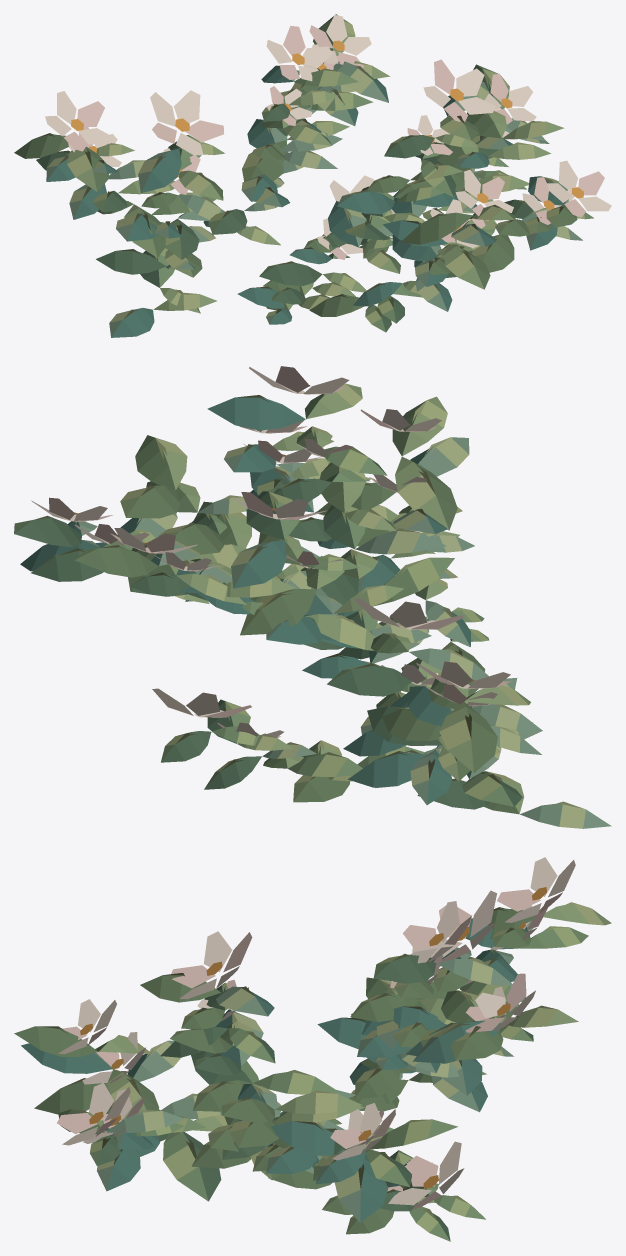
File: apple_blossom.glb
3 renders of one model, top to bottom at view 1: azimuth 30°, elevation 25°; view 2: azimuth 150°, elevation 25°; view 3: azimuth 270°, elevation 25°, orthographic. The views are drawn at different scales.
Parts seen in each view (by area): view 1: apple_blossom; view 2: apple_blossom; view 3: apple_blossom.
Part boxes in pixels (left/top/right/bottom): apple_blossom: left=14, top=14, right=611, bottom=337; apple_blossom: left=14, top=366, right=611, bottom=828; apple_blossom: left=14, top=857, right=611, bottom=1241.
Bounding box in the file's own units: 1.26 × 0.6827 × 1.16.
